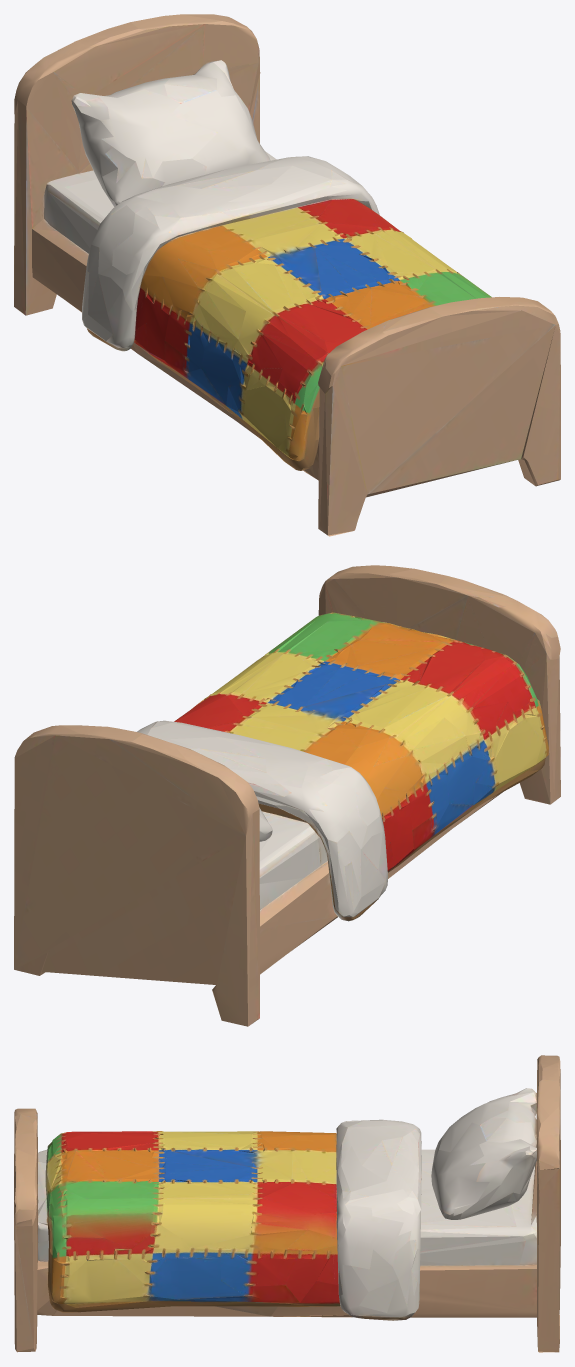
File: bed.glb
The picture shows the model from 3 angles, top to bottom: view 1: azimuth 30°, elevation 25°; view 2: azimuth 150°, elevation 25°; view 3: azimuth 270°, elevation 25°; orthographic projection. The views are drawn at different scales.
Size of the model in its own units: 1 by 0.9 by 2.
1 material, 1 textured.
